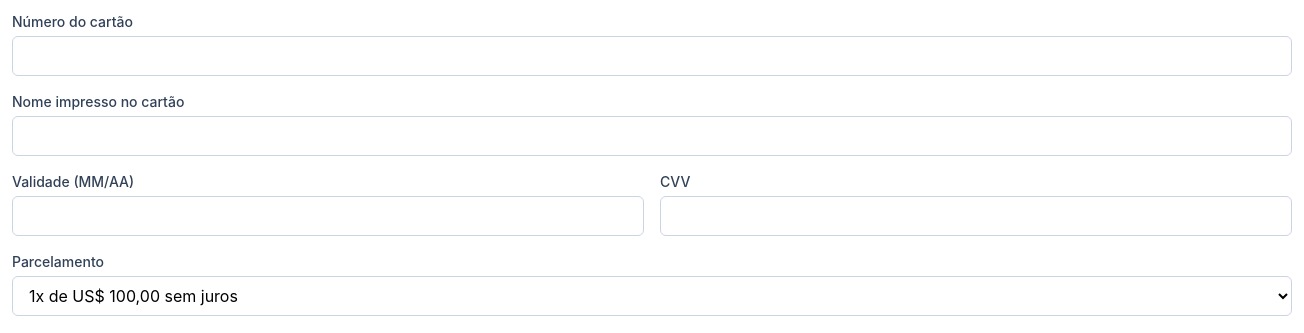
Scenario: CreditCardFields › número do cartão, validade e CVV recebem máscara
Type "4242424242424242" into the field labelled "Número do cartão".
click(652, 56); type("4242424242424242")  # box [12, 36, 1292, 76]
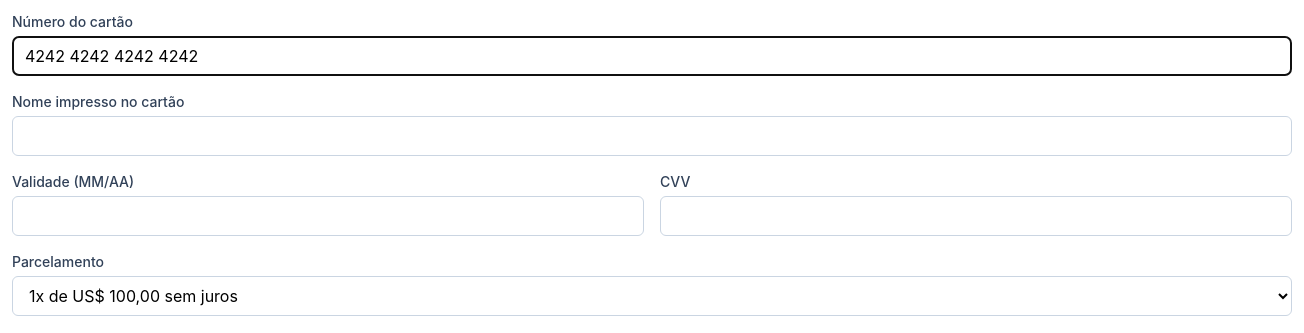
Type "1228" into the field labelled "Validade (MM/AA)".
click(328, 216); type("1228")  # box [12, 196, 644, 236]
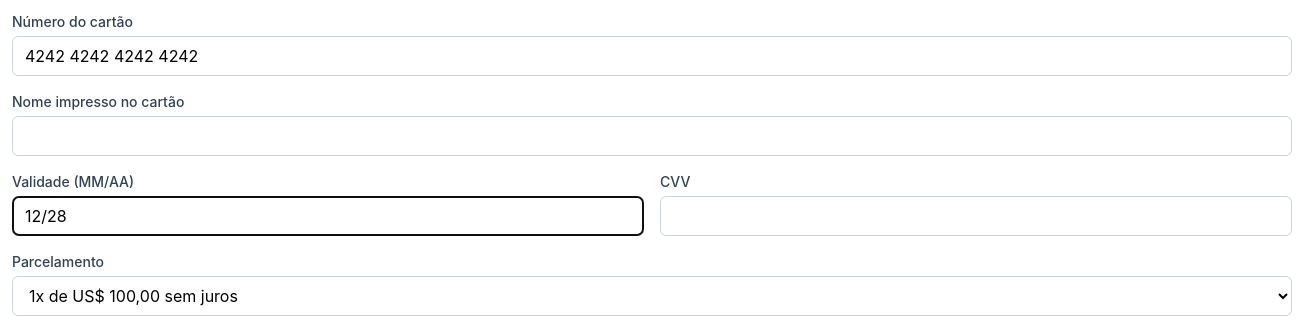
Type "12a345" into the field labelled "CVV".
click(976, 216); type("12a345")  # box [660, 196, 1292, 236]
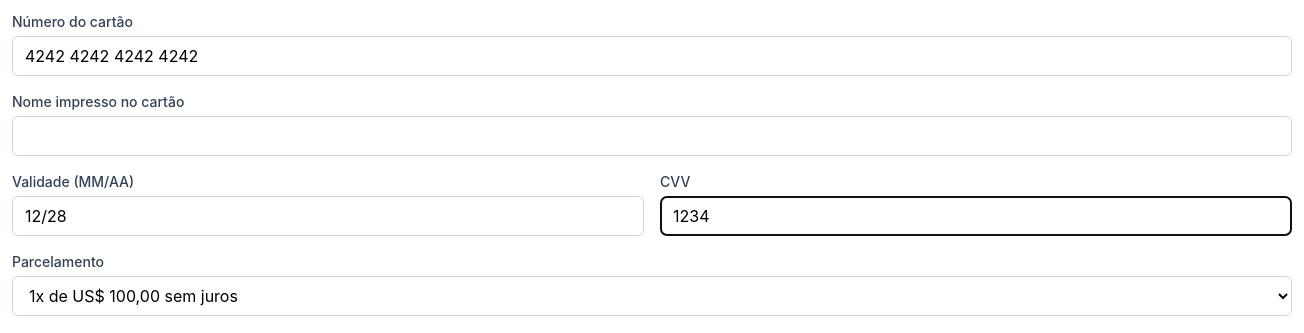
Result: the field labelled "Número do cartão" holds "4242 4242 4242 4242" at [12, 36, 1292, 76]
Result: the field labelled "Validade (MM/AA)" holds "12/28" at [12, 196, 644, 236]
Result: the field labelled "CVV" holds "1234" at [660, 196, 1292, 236]
